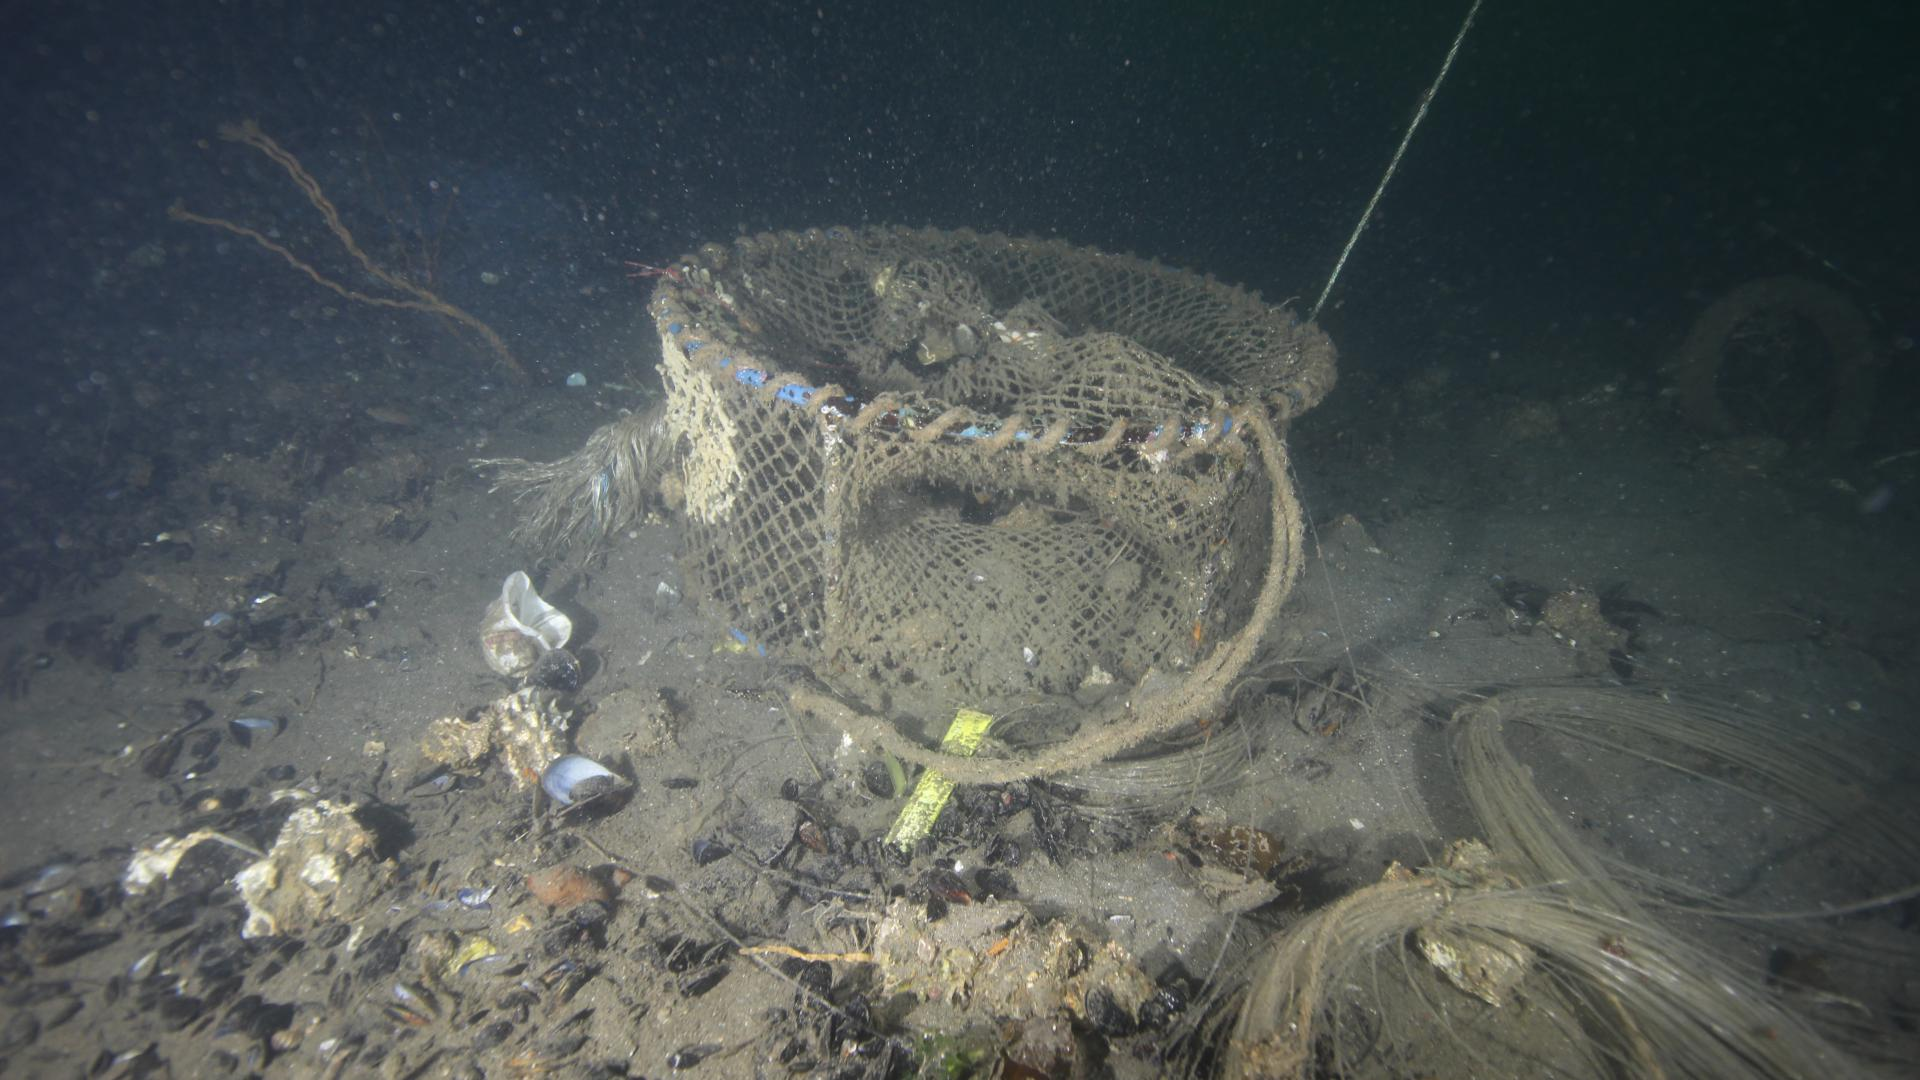bundle of ropes: (782, 411, 1302, 783)
circular fish trap: (638, 200, 1345, 702)
rope: (1305, 0, 1480, 324)
